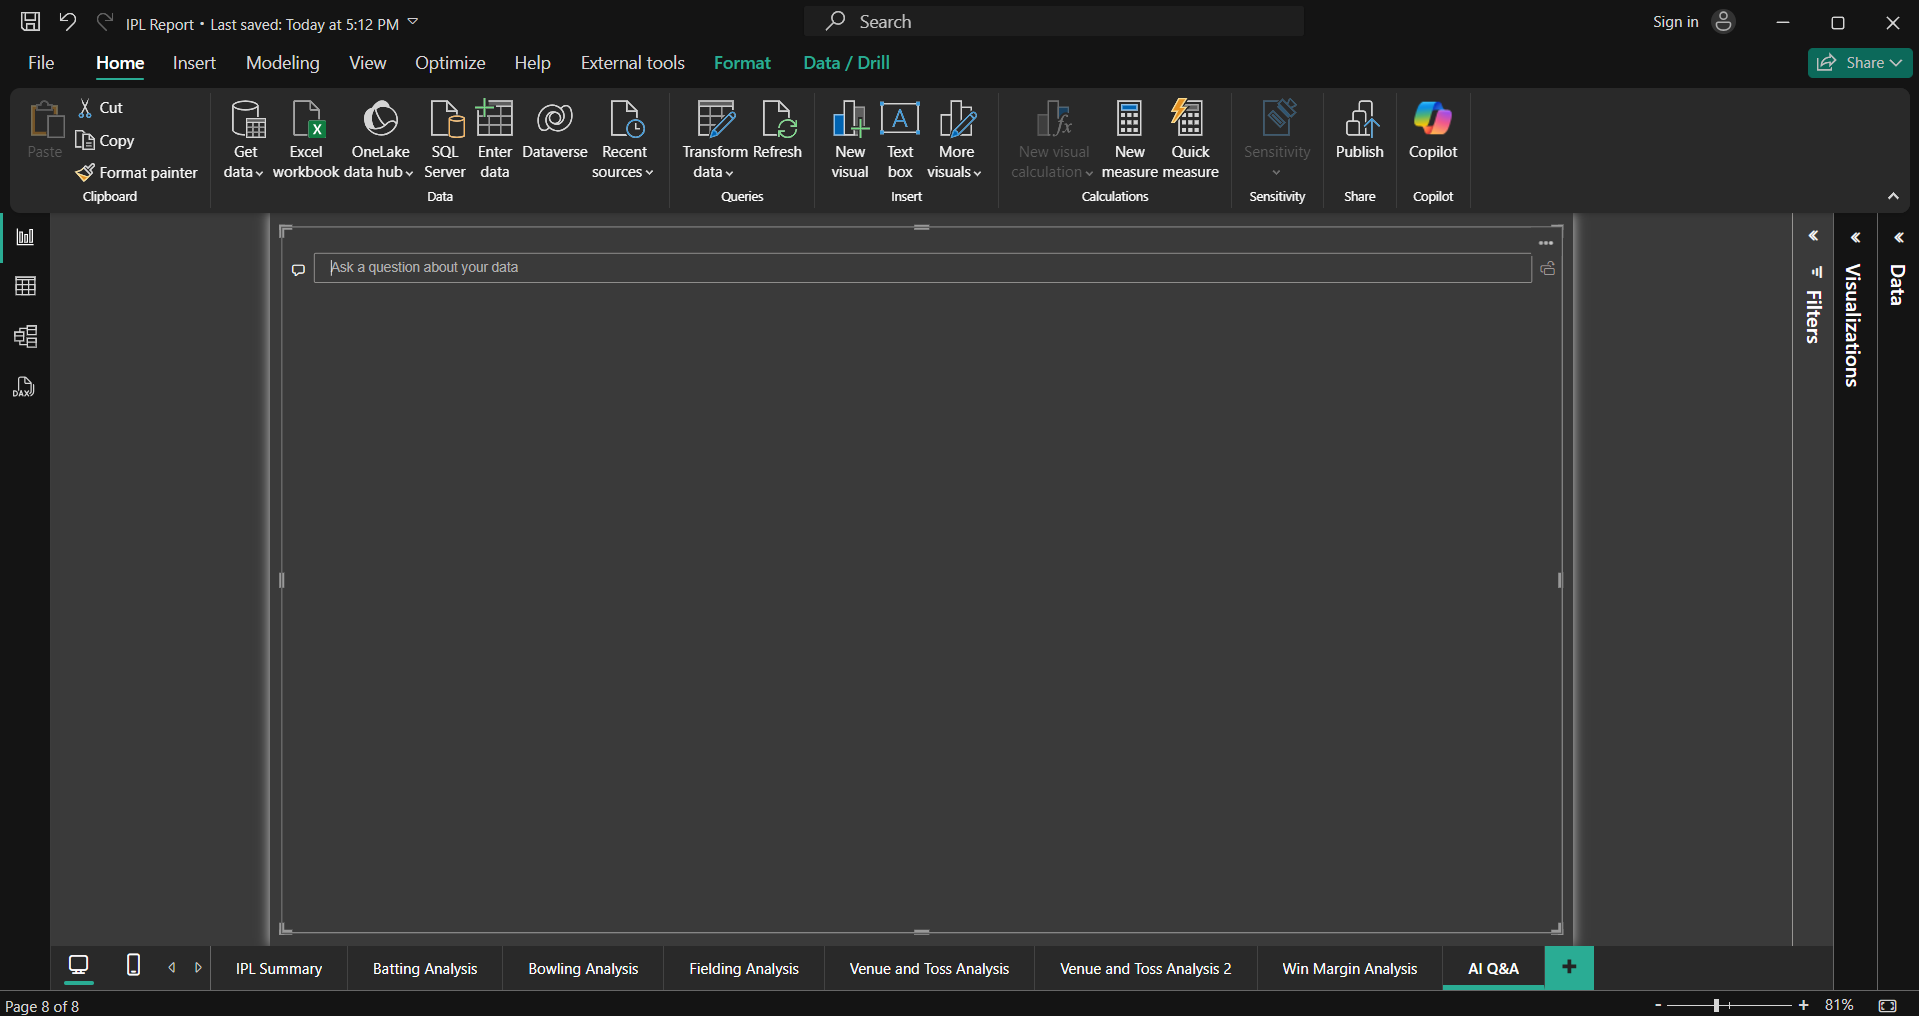

What the dashboard file says about the page in this screenshot:
{"tool":"powerbi","page":{"name":"AI Q&A","canvas":[1280,720],"ordinal":7},"visuals":[{"type":"qnaVisual","box":[11.4,13.9,1257.7,693.5],"z":0}]}

Visuals, with their boxes on the page's 1280x720 design canvas (x1, y1, x2, y2). These are canvas units, not pixel positions in the 1919x1016 screenshot, which may show the page scaled, cropped or inside an application window:
qnaVisual: [11, 14, 1269, 707]
